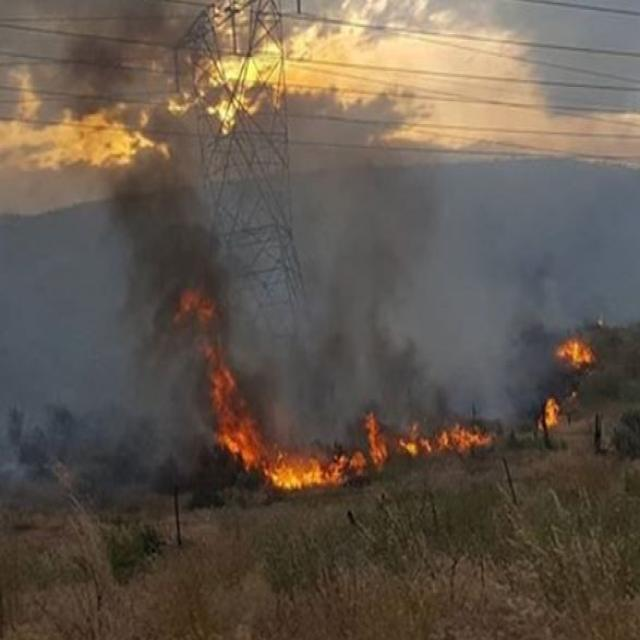Fire: (164, 286, 253, 439), (224, 378, 310, 494), (324, 410, 486, 465), (533, 382, 578, 434), (550, 332, 599, 369)
Smoke: (13, 2, 612, 235), (266, 173, 527, 362), (11, 184, 161, 478), (129, 132, 228, 256), (574, 234, 636, 318), (534, 159, 586, 259), (528, 166, 576, 240)
